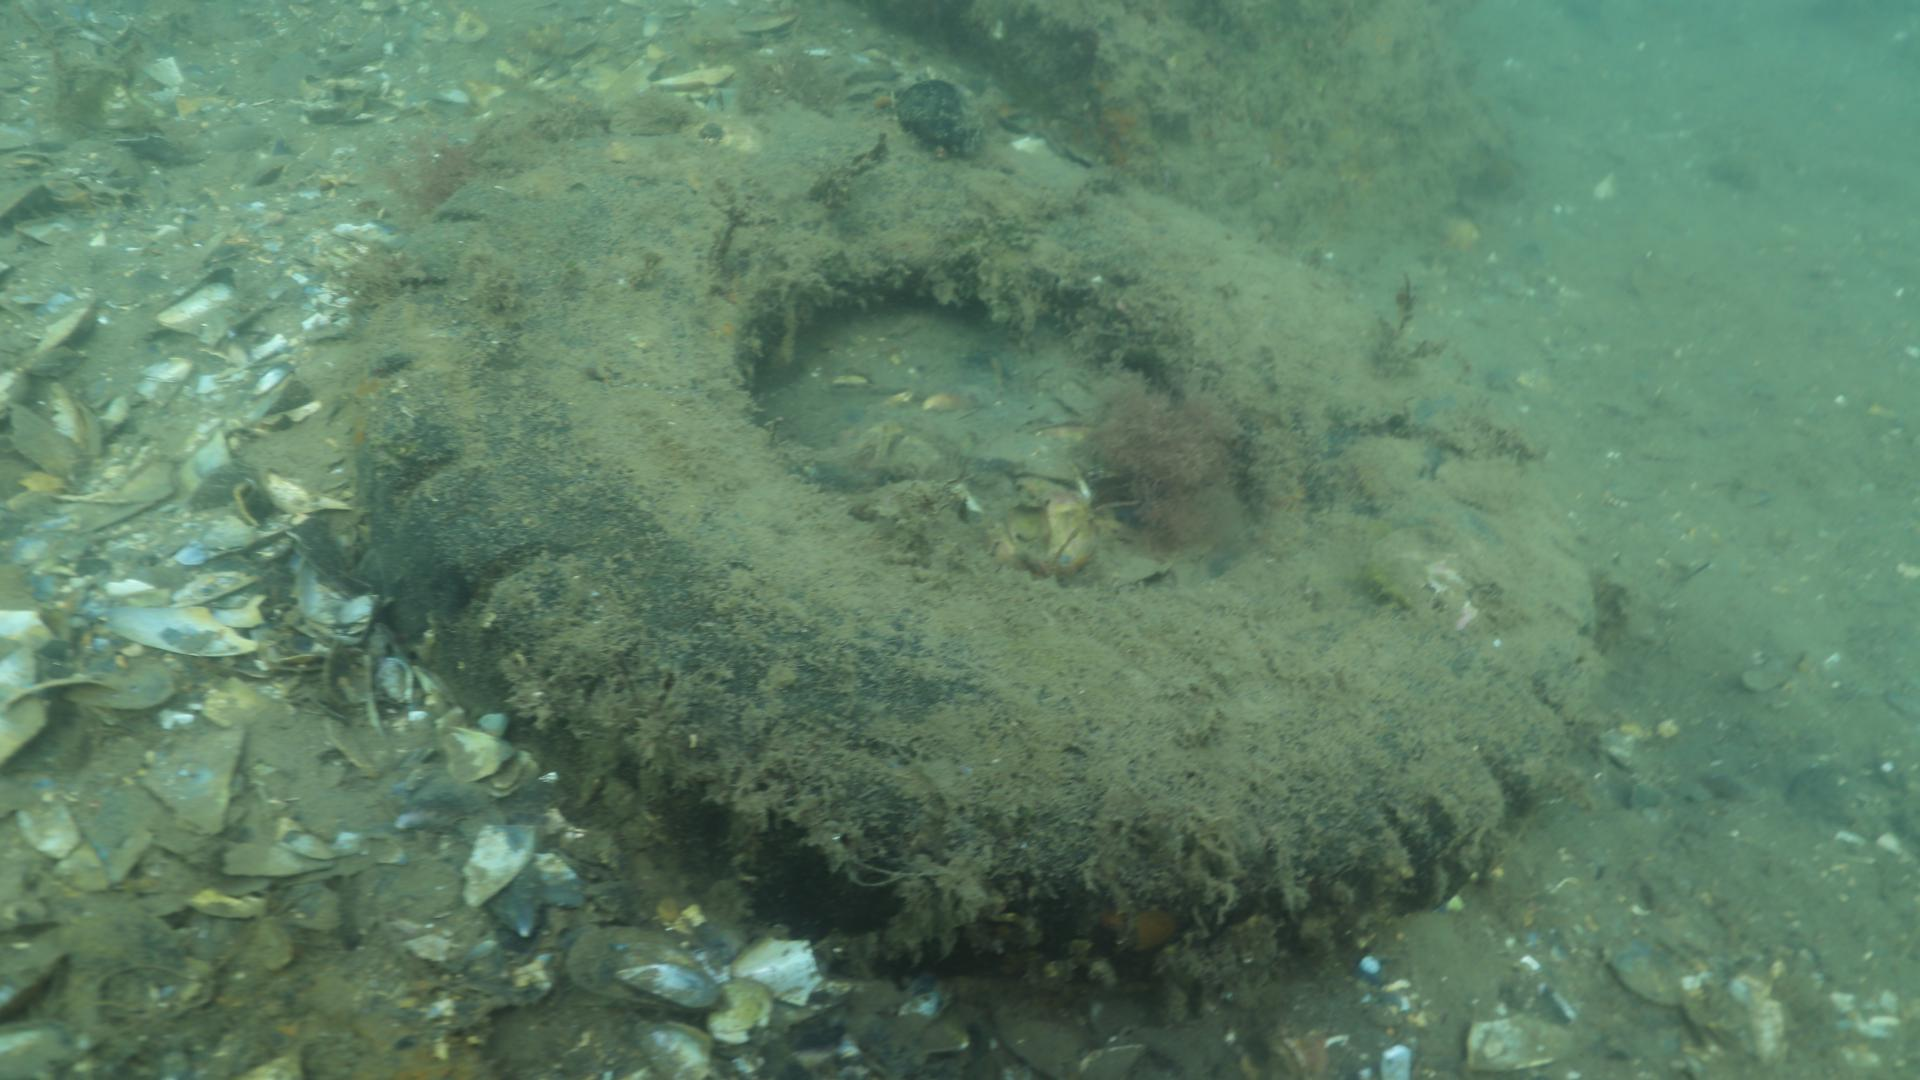tire: (353, 100, 1602, 994)
